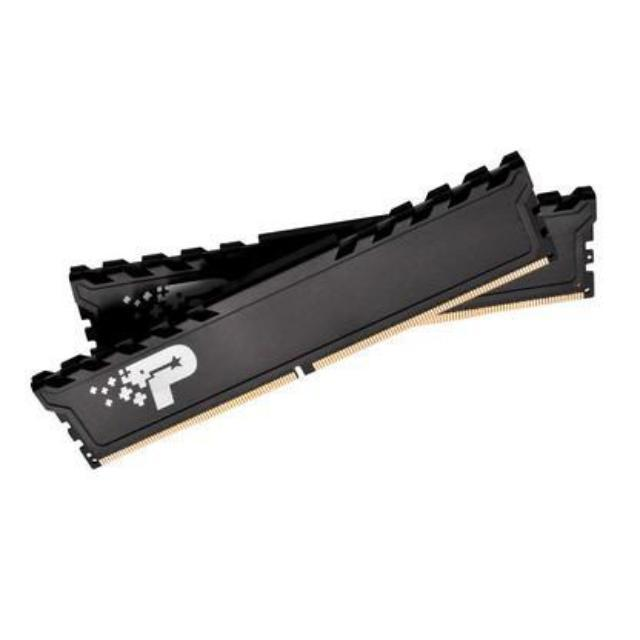RAM: (21, 145, 601, 472)
